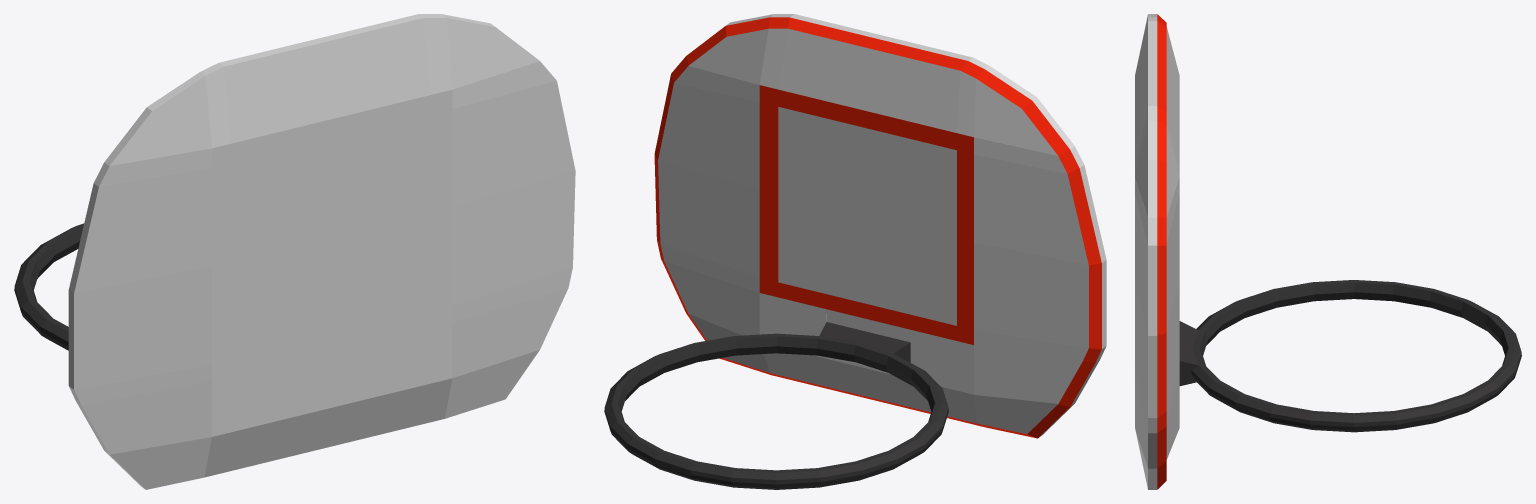
File: BasketBallHoop.fbx
3 views of the same model, side by side, from view 1: azimuth 30°, elevation 25°; view 2: azimuth 150°, elevation 25°; view 3: azimuth 270°, elevation 25° (orthographic). The views are drawn at different scales.
Parts seen in each view (by area): view 1: Cube; view 2: Cube; view 3: Cube.
Boxes of the visible parts, box(x1,y1,x2,y2) form: Cube: box(14, 14, 575, 489); Cube: box(604, 14, 1106, 489); Cube: box(1135, 14, 1521, 489).
Bounding box in the file's own units: 49.99 × 38.68 × 38.38.
